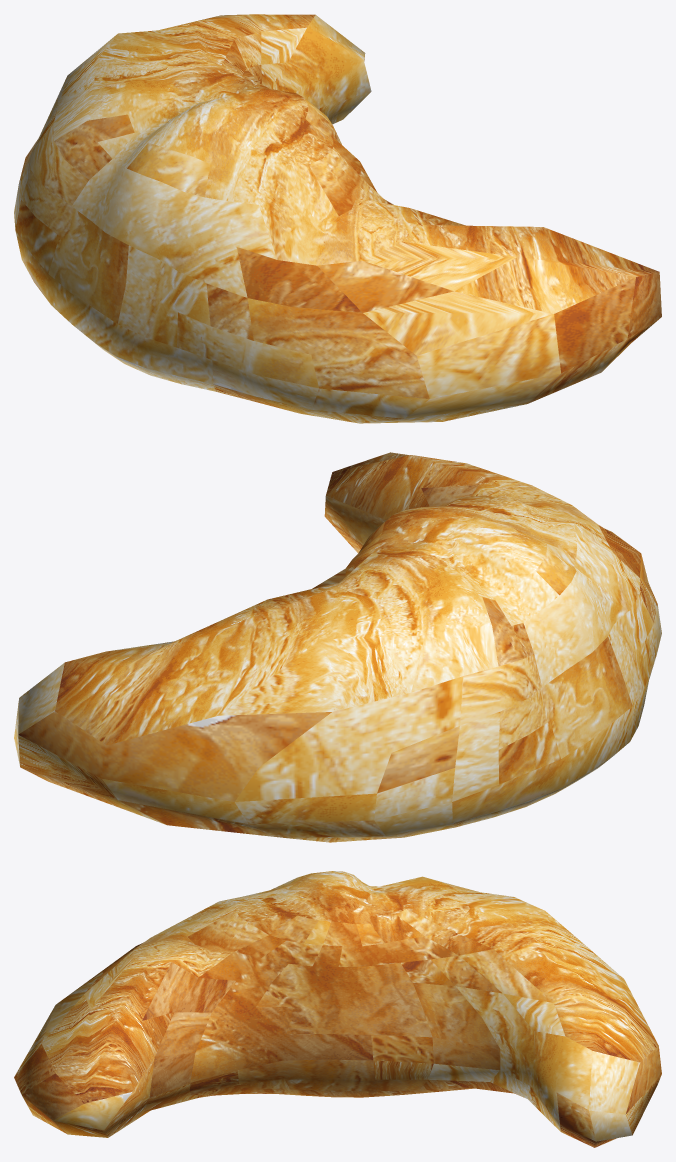
Rendered from croissant_coin.fbx.
3 renders of one model, top to bottom at view 1: azimuth 30°, elevation 25°; view 2: azimuth 150°, elevation 25°; view 3: azimuth 270°, elevation 25°, orthographic. The views are drawn at different scales.
Visible parts, largest first — view 1: Sphere; view 2: Sphere; view 3: Sphere.
Boxes of the visible parts, box(x1,y1,x2,y2) form: Sphere: box(14, 14, 661, 423); Sphere: box(14, 452, 661, 842); Sphere: box(14, 871, 661, 1147).
Size of the model in its own units: 287 by 148 by 445.
